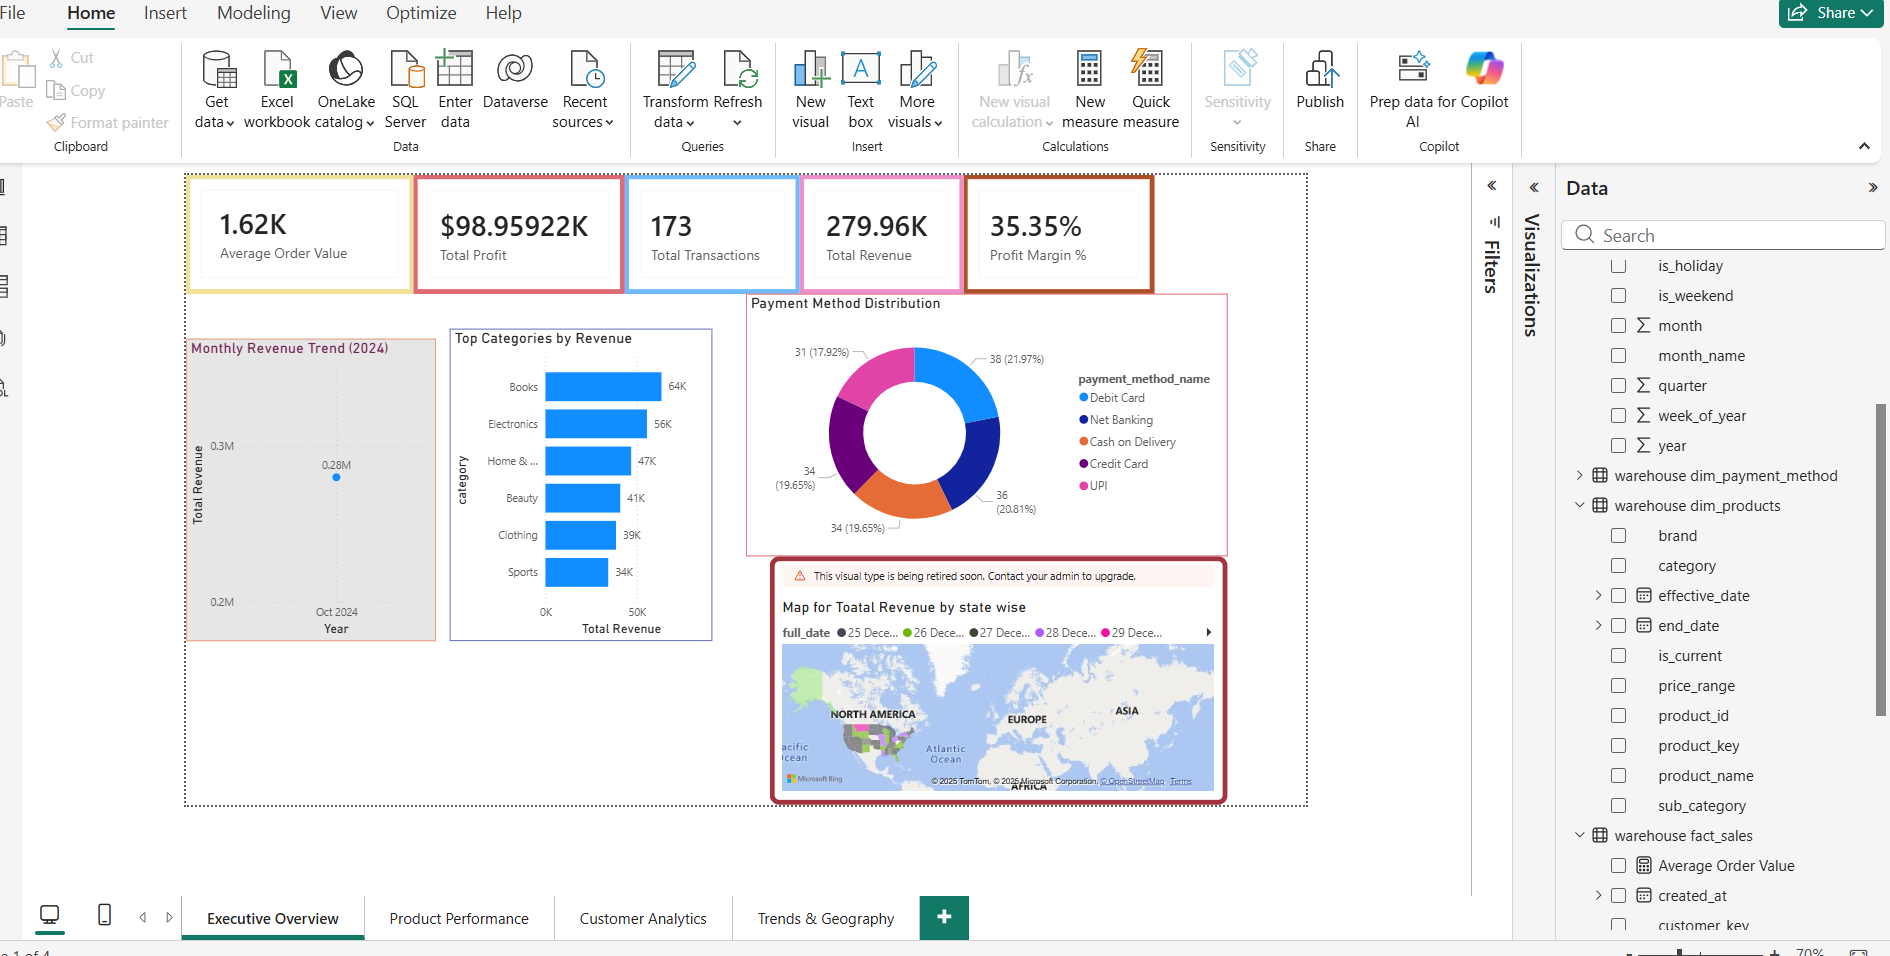

This screenshot's page, from the dashboard's own definition file:
{"tool":"powerbi","page":{"name":"Executive Overview","canvas":[1280,720],"ordinal":0},"visuals":[{"type":"cardVisual","fields":{"Data":["warehouse fact_sales.Average Order Value"]},"box":[0,0,260,135.7],"z":0},{"type":"cardVisual","fields":{"Data":["warehouse fact_sales.Profit Margin %"]},"box":[888.6,0,218.6,135.7],"z":1},{"type":"cardVisual","fields":{"Data":["warehouse fact_sales.Total Profit"]},"box":[260,0,241.4,135.7],"z":2},{"type":"cardVisual","fields":{"Data":["warehouse fact_sales.Total Transactions"]},"box":[501.4,0,200,135.7],"z":4},{"type":"cardVisual","fields":{"Data":["warehouse fact_sales.Total Revenue"]},"box":[701.4,0,187.1,135.7],"z":5},{"type":"lineChart","title":"Monthly Revenue Trend (2024)","fields":{"Y":["warehouse fact_sales.Total Revenue"],"Category":["warehouse dim_date.full_date.Variation.Date Hierarchy.Year","warehouse dim_date.full_date.Variation.Date Hierarchy.Quarter","warehouse dim_date.full_date.Variation.Date Hierarchy.Month","warehouse dim_date.full_date.Variation.Date Hierarchy.Day"]},"box":[0,187.1,285.7,345.7],"z":6},{"type":"clusteredBarChart","title":"Top Categories by Revenue","fields":{"Y":["warehouse fact_sales.Total Revenue"],"Category":["warehouse dim_products.category"]},"box":[301.4,175.7,300,357.1],"z":7},{"type":"donutChart","title":"Payment Method Distribution","fields":{"Y":["warehouse fact_sales.Total Transactions"],"Category":["warehouse dim_payment_method.payment_method_name"]},"box":[640,135.7,550,300],"z":8},{"type":"filledMap","title":"Map for Toatal Revenue by state wise","fields":{"Series":["warehouse dim_date.full_date"],"Category":["warehouse dim_customers.state"]},"box":[667.1,435.7,522.9,284.3],"z":9}]}

Visuals, with their boxes on the page's 1280x720 design canvas (x1, y1, x2, y2). These are canvas units, not pixel positions in the 1890x956 screenshot, which may show the page scaled, cropped or inside an application window:
cardVisual - warehouse fact_sales.Average Order Value: <bbox>0, 0, 260, 136</bbox>
cardVisual - warehouse fact_sales.Profit Margin %: <bbox>889, 0, 1107, 136</bbox>
cardVisual - warehouse fact_sales.Total Profit: <bbox>260, 0, 501, 136</bbox>
cardVisual - warehouse fact_sales.Total Transactions: <bbox>501, 0, 701, 136</bbox>
cardVisual - warehouse fact_sales.Total Revenue: <bbox>701, 0, 888, 136</bbox>
"Monthly Revenue Trend (2024)" lineChart: <bbox>0, 187, 286, 533</bbox>
"Top Categories by Revenue" clusteredBarChart: <bbox>301, 176, 601, 533</bbox>
"Payment Method Distribution" donutChart: <bbox>640, 136, 1190, 436</bbox>
"Map for Toatal Revenue by state wise" filledMap: <bbox>667, 436, 1190, 720</bbox>
